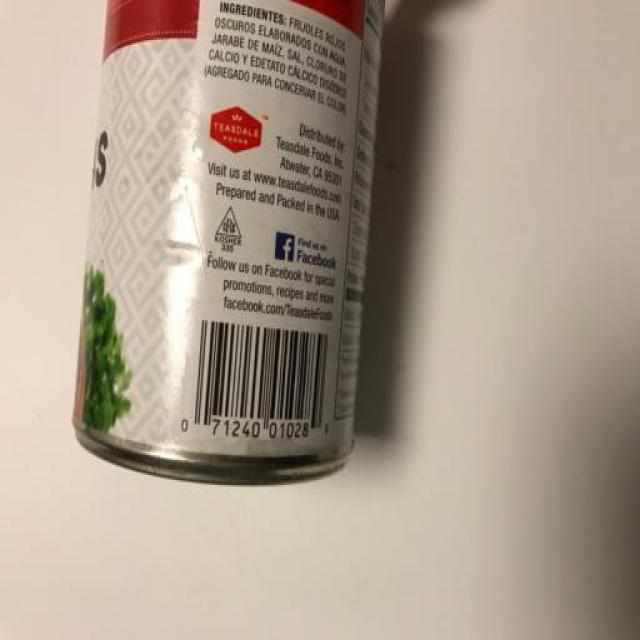metel: (64, 4, 385, 489)
